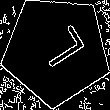L_SW: (27, 24, 85, 77)
